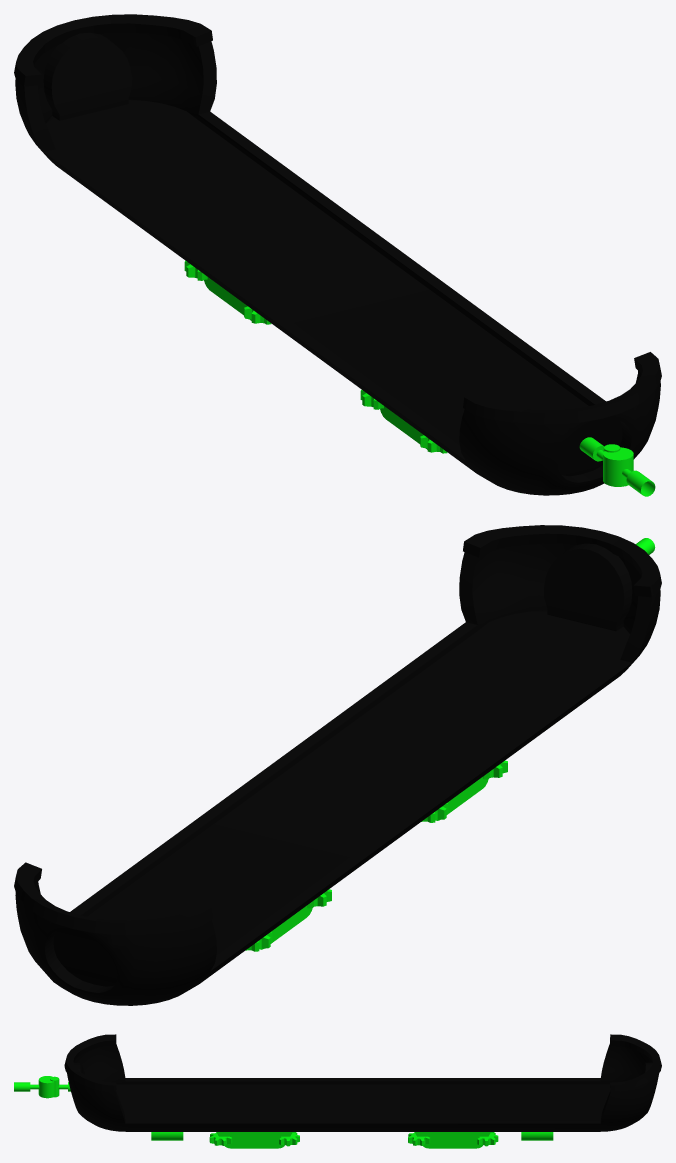
Rendered from Wagon_Metal_01.FBX.
The picture shows the model from 3 angles, top to bottom: view 1: azimuth 30°, elevation 25°; view 2: azimuth 150°, elevation 25°; view 3: azimuth 270°, elevation 25°; orthographic projection. The views are drawn at different scales.
Visible parts, largest first — view 1: Wagon_Metal_01_LOD0; view 2: Wagon_Metal_01_LOD0; view 3: Wagon_Metal_01_LOD0.
Part boxes in pixels (x1,y1,x2,y2): Wagon_Metal_01_LOD0: [14, 14, 661, 496]; Wagon_Metal_01_LOD0: [14, 525, 661, 1005]; Wagon_Metal_01_LOD0: [14, 1034, 661, 1148].
Bounding box in the file's own units: 566 × 413 × 2984.
